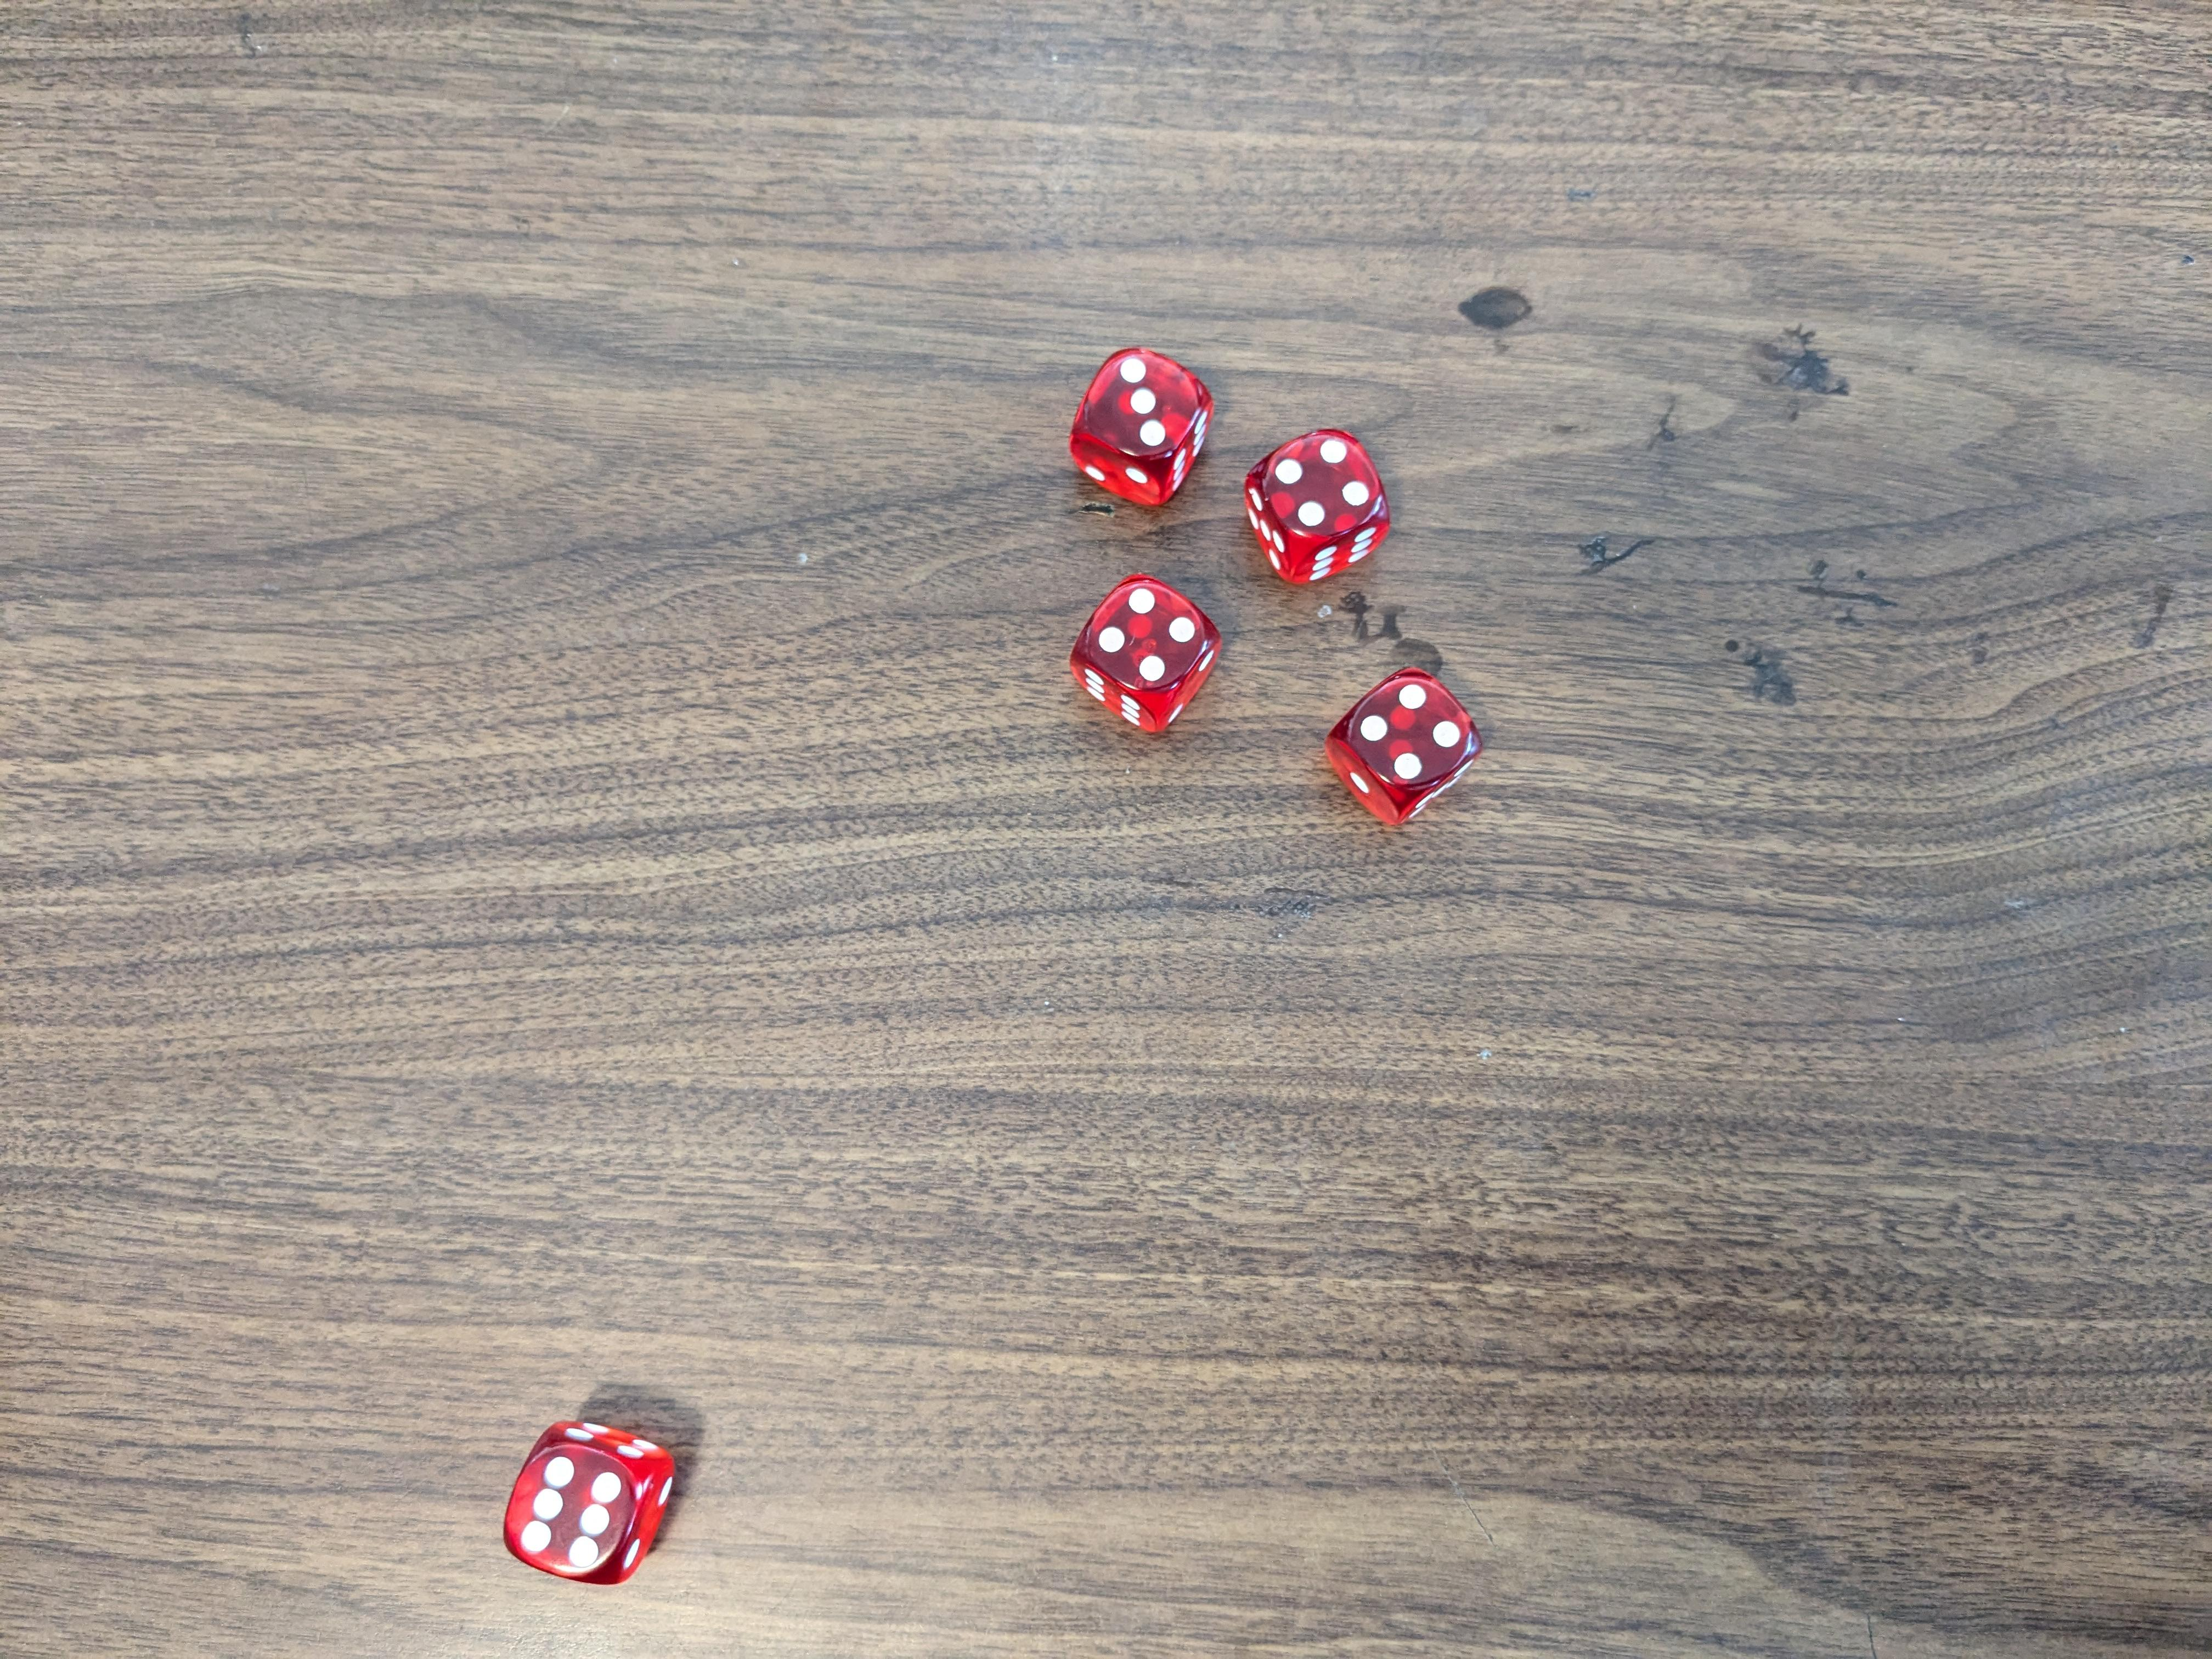four: (1073, 573, 1224, 739), (1338, 657, 1482, 826), (1245, 425, 1392, 586)
six: (502, 1422, 679, 1593)
three: (1071, 345, 1214, 514)
